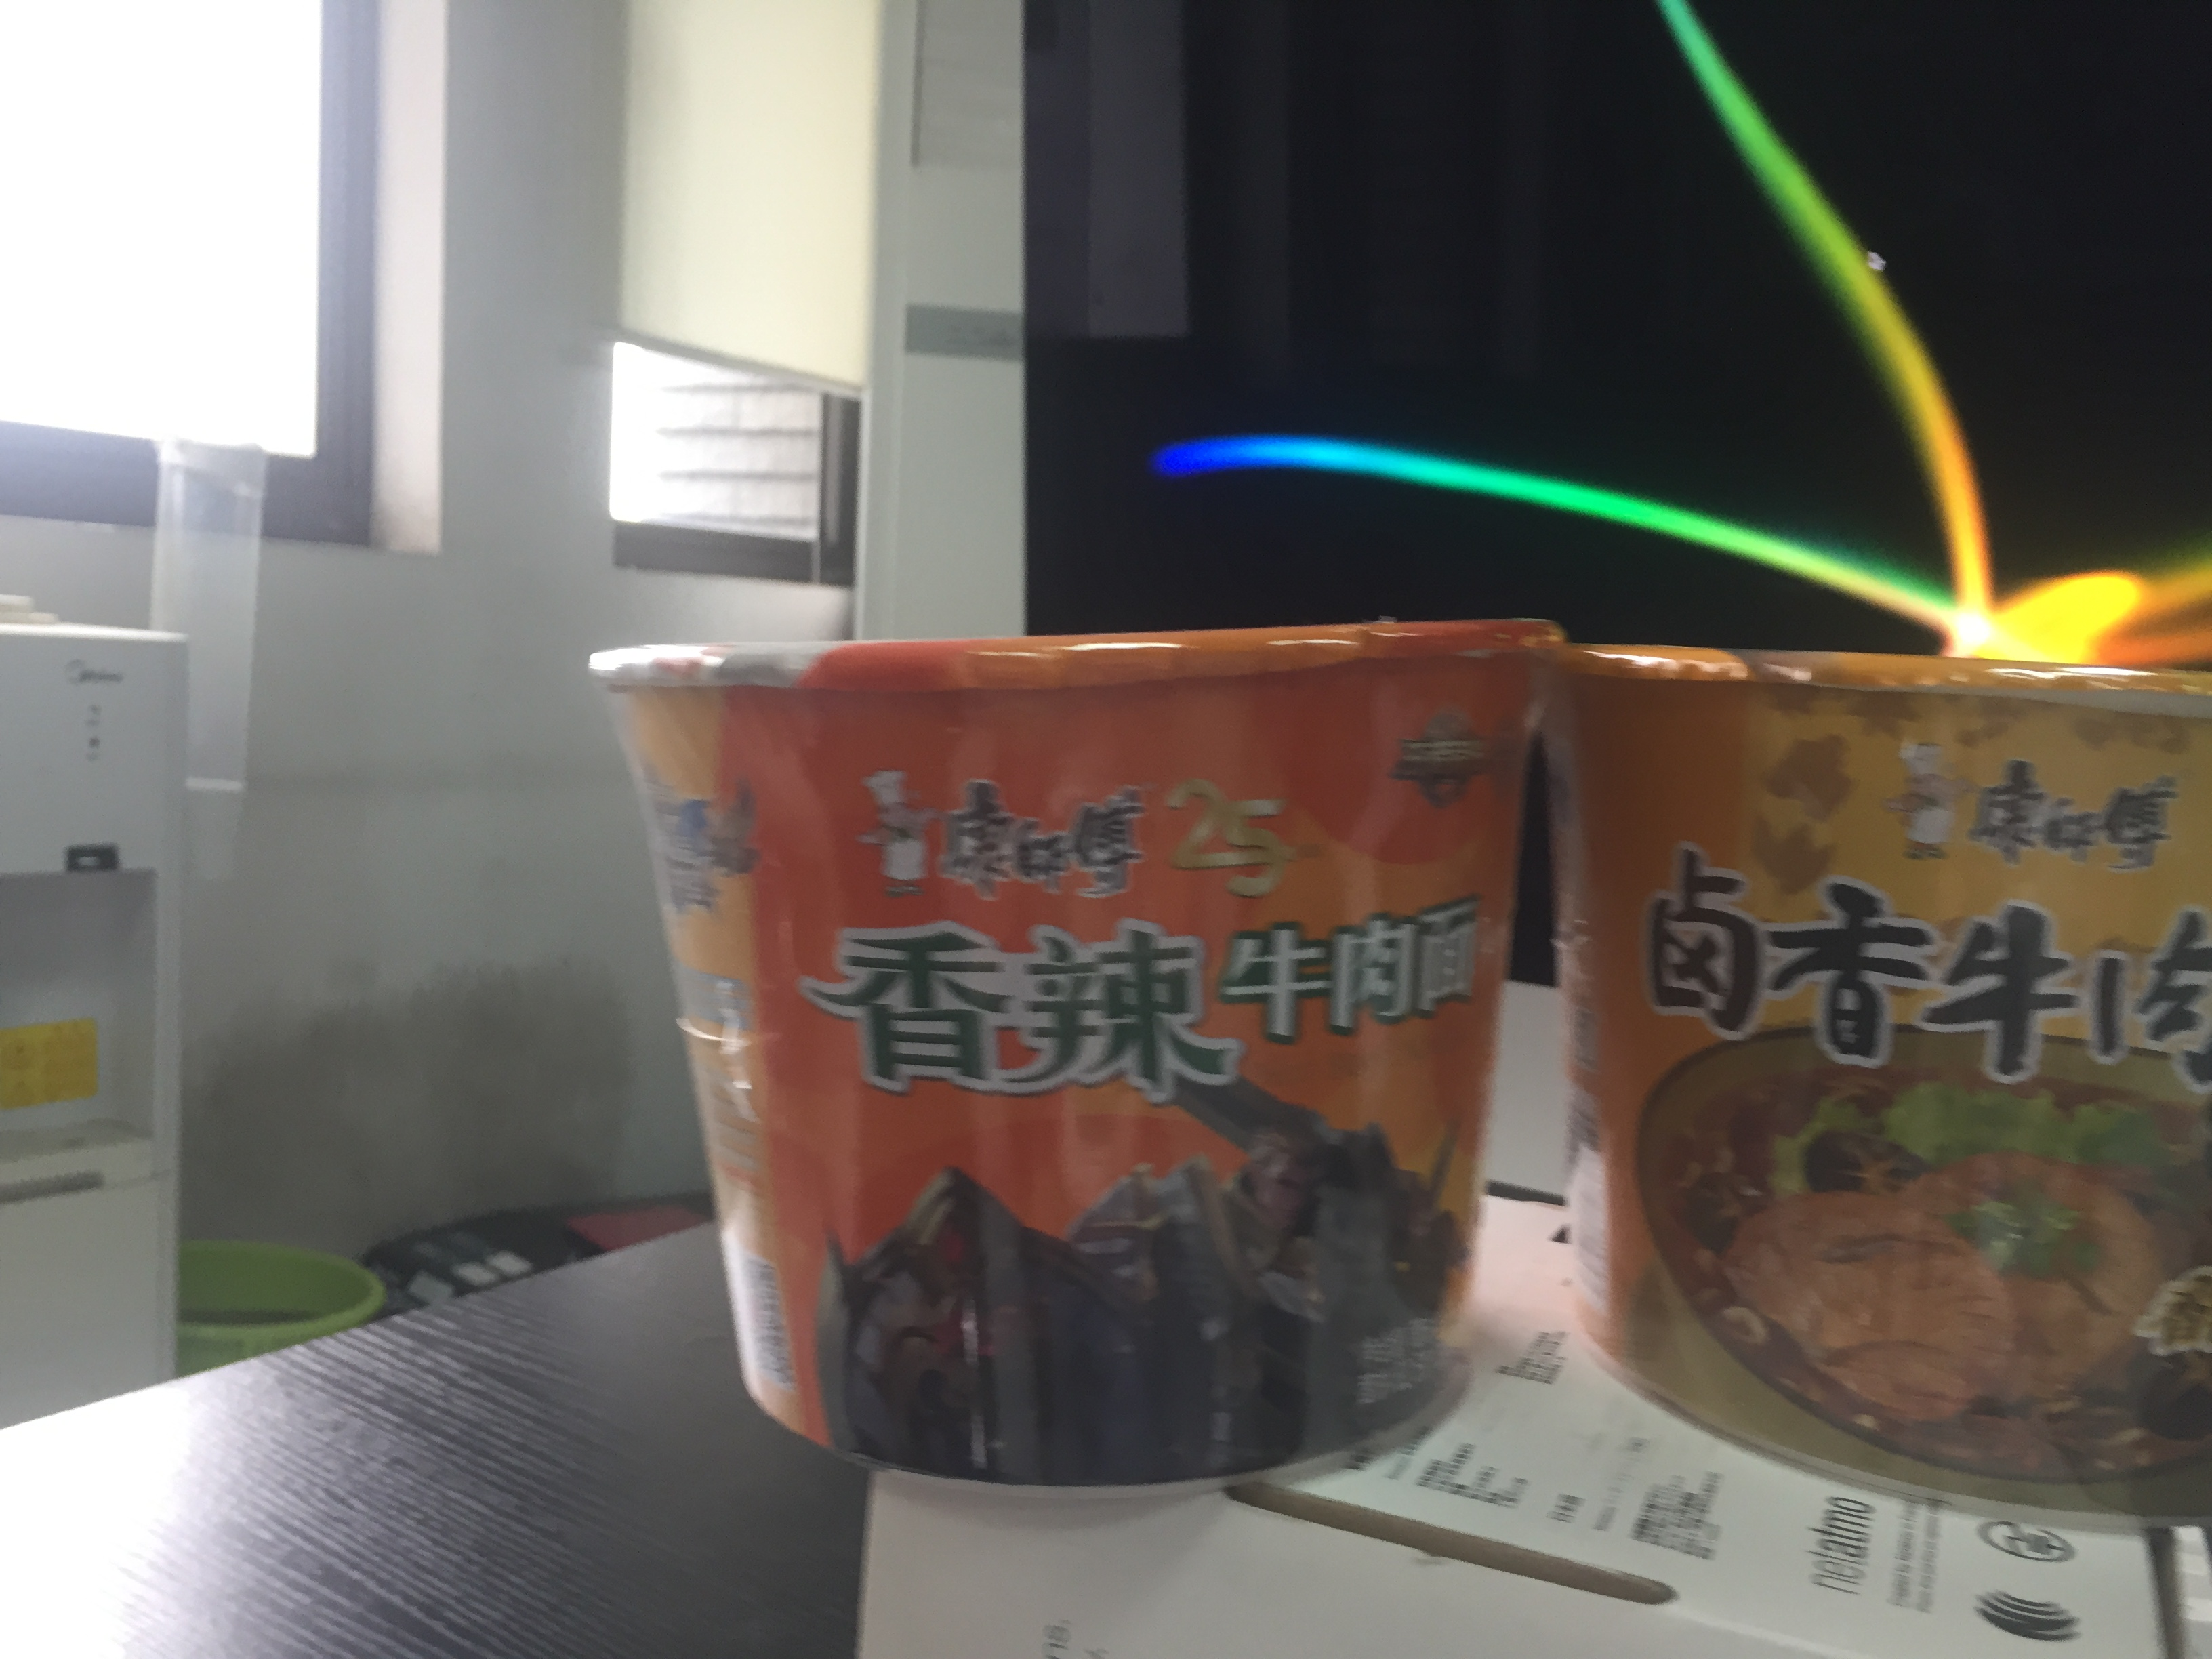luxiang: (1545, 643, 2212, 1535)
xiangla: (582, 617, 1571, 1504)
